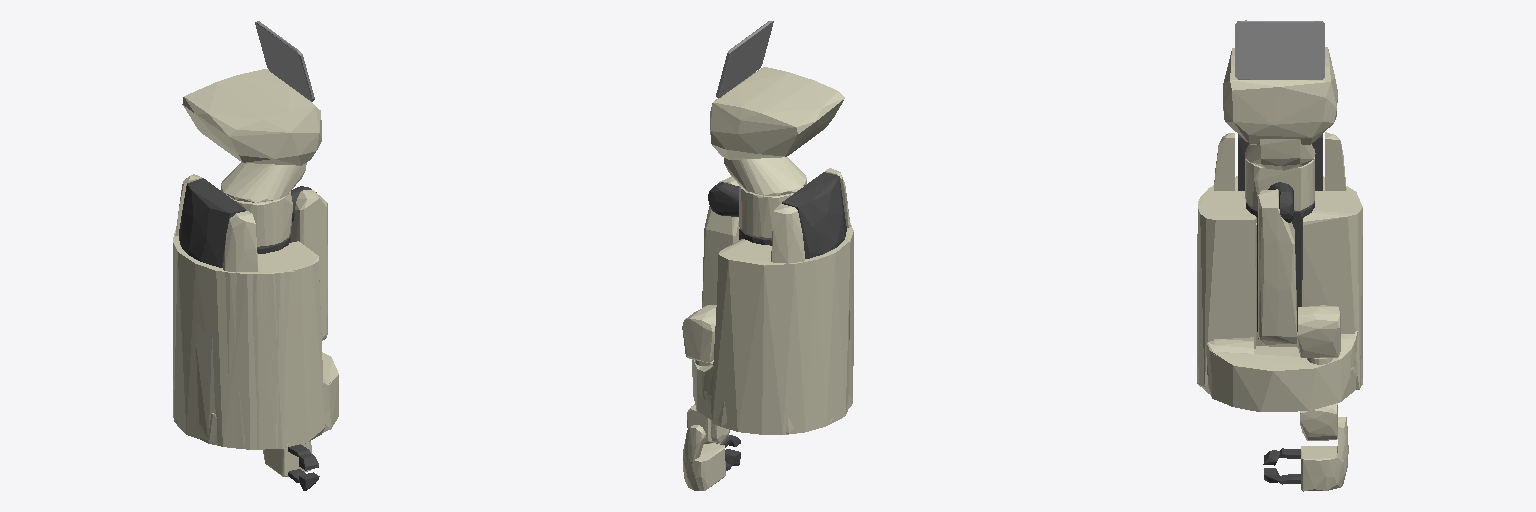
--- Render facts (derived) ---
3 views of the same robot in one strip: view 1: azimuth 30°, elevation 25°; view 2: azimuth 150°, elevation 25°; view 3: azimuth 270°, elevation 25° (orthographic).
Robot: hsra — 85 links, 84 joints (13 revolute, 3 prismatic, 68 fixed); root link robot_base; default pose: all joints at 0.
Links seen in each view (by area): view 1: BASE/SHAPE_BASE_VISUAL, CARM/HEAD/SHAPE_HEAD_VISUAL, CARM/SHAPE_LINEAR_VISUAL, CARM/SHAPE_SHOULDER_P_VISUAL, CARM/HEAD/SHAPE_NECK_Y_VISUAL, CARM/HEAD/SHAPE_TABLET_VISUAL, CARM/SHAPE_SHOULDER_Y_VISUAL, CARM/SHAPE_WRIST_P_VISUAL; view 2: BASE/SHAPE_BASE_VISUAL, CARM/HEAD/SHAPE_HEAD_VISUAL, CARM/SHAPE_LINEAR_VISUAL, CARM/HEAD/SHAPE_NECK_Y_VISUAL, CARM/SHAPE_WRIST_P_VISUAL, CARM/SHAPE_SHOULDER_P_VISUAL, CARM/HEAD/SHAPE_TABLET_VISUAL, CARM/SHAPE_SHOULDER_Y_VISUAL, CARM/SHAPE_ELBOW_P_VISUAL, CARM/SHAPE_SHOULDER_R_VISUAL; view 3: BASE/SHAPE_BASE_VISUAL, CARM/HEAD/SHAPE_HEAD_VISUAL, CARM/SHAPE_SHOULDER_P_VISUAL, CARM/HEAD/SHAPE_TABLET_VISUAL, CARM/SHAPE_WRIST_P_VISUAL, CARM/SHAPE_ELBOW_P_VISUAL, CARM/SHAPE_SHOULDER_Y_VISUAL, CARM/SHAPE_LINEAR_VISUAL, CARM/HEAD/SHAPE_NECK_Y_VISUAL, CARM/SHAPE_WRIST_R_VISUAL, CARM/SHAPE_SHOULDER_R_VISUAL.
Boxes of the visible links, <box> form: BASE/SHAPE_BASE_VISUAL: <box>173,174,338,449</box>; CARM/HEAD/SHAPE_HEAD_VISUAL: <box>182,69,321,165</box>; CARM/SHAPE_LINEAR_VISUAL: <box>179,178,290,267</box>; CARM/SHAPE_SHOULDER_P_VISUAL: <box>290,190,327,340</box>; CARM/HEAD/SHAPE_NECK_Y_VISUAL: <box>221,162,306,202</box>; CARM/HEAD/SHAPE_TABLET_VISUAL: <box>255,21,314,101</box>; CARM/SHAPE_SHOULDER_Y_VISUAL: <box>230,191,292,246</box>; CARM/SHAPE_WRIST_P_VISUAL: <box>263,441,311,476</box>; BASE/SHAPE_BASE_VISUAL: <box>692,168,853,434</box>; CARM/HEAD/SHAPE_HEAD_VISUAL: <box>710,67,844,159</box>; CARM/SHAPE_LINEAR_VISUAL: <box>739,172,846,258</box>; CARM/HEAD/SHAPE_NECK_Y_VISUAL: <box>724,157,806,195</box>; CARM/SHAPE_WRIST_P_VISUAL: <box>683,425,725,490</box>; CARM/SHAPE_SHOULDER_P_VISUAL: <box>702,176,739,307</box>; CARM/HEAD/SHAPE_TABLET_VISUAL: <box>716,21,773,97</box>; CARM/SHAPE_SHOULDER_Y_VISUAL: <box>739,184,806,237</box>; CARM/SHAPE_ELBOW_P_VISUAL: <box>682,305,716,362</box>; CARM/SHAPE_SHOULDER_R_VISUAL: <box>708,182,738,216</box>; BASE/SHAPE_BASE_VISUAL: <box>1197,132,1362,411</box>; CARM/HEAD/SHAPE_HEAD_VISUAL: <box>1223,47,1337,144</box>; CARM/SHAPE_SHOULDER_P_VISUAL: <box>1258,189,1296,345</box>; CARM/HEAD/SHAPE_TABLET_VISUAL: <box>1235,20,1324,79</box>; CARM/SHAPE_WRIST_P_VISUAL: <box>1301,417,1348,491</box>; CARM/SHAPE_ELBOW_P_VISUAL: <box>1297,305,1340,357</box>; CARM/SHAPE_SHOULDER_Y_VISUAL: <box>1245,157,1314,210</box>; CARM/SHAPE_LINEAR_VISUAL: <box>1238,134,1322,338</box>; CARM/HEAD/SHAPE_NECK_Y_VISUAL: <box>1245,139,1315,170</box>; CARM/SHAPE_WRIST_R_VISUAL: <box>1300,403,1337,440</box>; CARM/SHAPE_SHOULDER_R_VISUAL: <box>1268,182,1293,222</box>.
Size in the robot's own frame: 0.3737 by 0.3772 by 1.13 metres.
27 mesh visuals loaded from 27 distinct referenced files (27 binary STL).

robot.urdf — hsra:
<?xml version="1.0" encoding="utf-8"?>
<robot name="hsra">
    <link name="robot_base"/>
    <joint name="robot_base_vjoint_" type="fixed">
        <origin rpy="0 0 0" xyz="0 0 0"/>
        <parent link="robot_base"/>
        <child link="_root_"/>
    </joint>
    <link name="_root_"/>
    <joint name="BASE/_root__vjoint_" type="fixed">
        <origin rpy="0 0 0" xyz="0 0 0"/>
        <parent link="_root_"/>
        <child link="BASE/_root_"/>
    </joint>
    <link name="BASE/_root_"/>
    <joint name="BASE/_BASE_X" type="prismatic">
        <origin rpy="0 0 0" xyz=" 0.000  0.000  0.000"/>
        <parent link="BASE/_root_"/>
        <child link="BASE/_BASE_X_link"/>
        <axis xyz="1 0 0"/>
        <limit effort="1000.0" lower="-1.000" upper="1.000" velocity="10.0"/>
    </joint>
    <link name="BASE/_BASE_X_link"/>
    <joint name="BASE/SOLID_BASE_vjoint_" type="fixed">
        <origin rpy="0 0 0" xyz="0 0 0"/>
        <parent link="BASE/_root_"/>
        <child link="BASE/SOLID_BASE"/>
    </joint>
    <link name="BASE/SOLID_BASE">
        <inertial>
            <origin xyz="0.000  0.000  0.0625"/>
            <mass value="4.0"/>
            <inertia ixx="4.00" ixy="0.000" ixz="0.000" iyy="4.00" iyz="0.000" izz="4.000"/>
        </inertial>
    </link>
    <joint name="BASE/SOLID_WEIGHT_vjoint_" type="fixed">
        <origin rpy="0 0 0" xyz="0 0 0"/>
        <parent link="BASE/_root_"/>
        <child link="BASE/SOLID_WEIGHT"/>
    </joint>
    <link name="BASE/SOLID_WEIGHT">
        <inertial>
            <origin xyz="0.000  0.000  0.05"/>
            <mass value="5.0"/>
            <inertia ixx="5.00" ixy="0.000" ixz="0.000" iyy="5.00" iyz="0.000" izz="5.000"/>
        </inertial>
    </link>
    <joint name="BASE/FRAME_BASE_vjoint_" type="fixed">
        <origin rpy=" 0.000  0.0  0.000" xyz="0.000 0.000 0.000"/>
        <parent link="BASE/_BASE_X_link"/>
        <child link="BASE/FRAME_BASE"/>
    </joint>
    <link name="BASE/FRAME_BASE"/>
    <joint name="BASE/SHAPE_BASE_1_vjoint_" type="fixed">
        <origin rpy="0 0 0" xyz="  0.0 0.0 0.0"/>
        <parent link="BASE/FRAME_BASE"/>
        <child link="BASE/SHAPE_BASE_1"/>
    </joint>
    <link name="BASE/SHAPE_BASE_1">
        <visual>
            <geometry>
                <box size="0 0 0"/>
            </geometry>
            <material name="ffbbbb">
                <color rgba="1.0 0.733333333333 0.733333333333 1.0"/>
            </material>
        </visual>
        <collision>
            <geometry>
                <mesh filename="package://tmc_manipulation_tests/meshes/hsra/BASE_1.stl"/>
            </geometry>
        </collision>
    </link>
    <joint name="BASE/SHAPE_BASE_2_vjoint_" type="fixed">
        <origin rpy="0 0 0" xyz="  0.0 0.0 0.0"/>
        <parent link="BASE/FRAME_BASE"/>
        <child link="BASE/SHAPE_BASE_2"/>
    </joint>
    <link name="BASE/SHAPE_BASE_2">
        <visual>
            <geometry>
                <box size="0 0 0"/>
            </geometry>
            <material name="ffbbbb">
                <color rgba="1.0 0.733333333333 0.733333333333 1.0"/>
            </material>
        </visual>
        <collision>
            <geometry>
                <mesh filename="package://tmc_manipulation_tests/meshes/hsra/BASE_2.stl"/>
            </geometry>
        </collision>
    </link>
    <joint name="BASE/SHAPE_BASE_3_vjoint_" type="fixed">
        <origin rpy="0 0 0" xyz="  0.0 0.0 0.0"/>
        <parent link="BASE/FRAME_BASE"/>
        <child link="BASE/SHAPE_BASE_3"/>
    </joint>
    <link name="BASE/SHAPE_BASE_3">
        <visual>
            <geometry>
                <box size="0 0 0"/>
            </geometry>
            <material name="ffbbbb">
                <color rgba="1.0 0.733333333333 0.733333333333 1.0"/>
            </material>
        </visual>
        <collision>
            <geometry>
                <mesh filename="package://tmc_manipulation_tests/meshes/hsra/BASE_3.stl"/>
            </geometry>
        </collision>
    </link>
    <joint name="BASE/SHAPE_BASE_4_vjoint_" type="fixed">
        <origin rpy="0 0 0" xyz="  0.0 0.0 0.0"/>
        <parent link="BASE/FRAME_BASE"/>
        <child link="BASE/SHAPE_BASE_4"/>
    </joint>
    <link name="BASE/SHAPE_BASE_4">
        <visual>
            <geometry>
                <box size="0 0 0"/>
            </geometry>
            <material name="ffbbbb">
                <color rgba="1.0 0.733333333333 0.733333333333 1.0"/>
            </material>
        </visual>
        <collision>
            <geometry>
                <mesh filename="package://tmc_manipulation_tests/meshes/hsra/BASE_4.stl"/>
            </geometry>
        </collision>
    </link>
    <joint name="BASE/SHAPE_BASE_5_vjoint_" type="fixed">
        <origin rpy="0 0 0" xyz="  0.0 0.0 0.0"/>
        <parent link="BASE/FRAME_BASE"/>
        <child link="BASE/SHAPE_BASE_5"/>
    </joint>
    <link name="BASE/SHAPE_BASE_5">
        <visual>
            <geometry>
                <box size="0 0 0"/>
            </geometry>
            <material name="ffbbbb">
                <color rgba="1.0 0.733333333333 0.733333333333 1.0"/>
            </material>
        </visual>
        <collision>
            <geometry>
                <mesh filename="package://tmc_manipulation_tests/meshes/hsra/BASE_5.stl"/>
            </geometry>
        </collision>
    </link>
    <joint name="BASE/SHAPE_BASE_6_vjoint_" type="fixed">
        <origin rpy="0 0 0" xyz="  0.0 0.0 0.0"/>
        <parent link="BASE/FRAME_BASE"/>
        <child link="BASE/SHAPE_BASE_6"/>
    </joint>
    <link name="BASE/SHAPE_BASE_6">
        <visual>
            <geometry>
                <box size="0 0 0"/>
            </geometry>
            <material name="ffbbbb">
                <color rgba="1.0 0.733333333333 0.733333333333 1.0"/>
            </material>
        </visual>
        <collision>
            <geometry>
                <mesh filename="package://tmc_manipulation_tests/meshes/hsra/BASE_6.stl"/>
            </geometry>
        </collision>
    </link>
    <joint name="BASE/SHAPE_BASE_VISUAL_vjoint_" type="fixed">
        <origin rpy="0 0 0" xyz="0 0 0"/>
        <parent link="BASE/FRAME_BASE"/>
        <child link="BASE/SHAPE_BASE_VISUAL"/>
    </joint>
    <link name="BASE/SHAPE_BASE_VISUAL">
        <visual>
            <material name="d5d2bb">
                <color rgba="0.835294117647 0.823529411765 0.733333333333 1.0"/>
            </material>
            <geometry>
                <mesh filename="package://tmc_manipulation_tests/meshes/hsra/BASE_1.stl"/>
            </geometry>
        </visual>
        <visual>
            <material name="d5d2bb">
                <color rgba="0.835294117647 0.823529411765 0.733333333333 1.0"/>
            </material>
            <geometry>
                <mesh filename="package://tmc_manipulation_tests/meshes/hsra/BASE_2.stl"/>
            </geometry>
        </visual>
        <visual>
            <material name="d5d2bb">
                <color rgba="0.835294117647 0.823529411765 0.733333333333 1.0"/>
            </material>
            <geometry>
                <mesh filename="package://tmc_manipulation_tests/meshes/hsra/BASE_3.stl"/>
            </geometry>
        </visual>
        <visual>
            <material name="d5d2bb">
                <color rgba="0.835294117647 0.823529411765 0.733333333333 1.0"/>
            </material>
            <geometry>
                <mesh filename="package://tmc_manipulation_tests/meshes/hsra/BASE_4.stl"/>
            </geometry>
        </visual>
        <visual>
            <material name="d5d2bb">
                <color rgba="0.835294117647 0.823529411765 0.733333333333 1.0"/>
            </material>
            <geometry>
                <mesh filename="package://tmc_manipulation_tests/meshes/hsra/BASE_5.stl"/>
            </geometry>
        </visual>
        <visual>
            <material name="d5d2bb">
                <color rgba="0.835294117647 0.823529411765 0.733333333333 1.0"/>
            </material>
            <geometry>
                <mesh filename="package://tmc_manipulation_tests/meshes/hsra/BASE_6.stl"/>
            </geometry>
        </visual>
    </link>
    <joint name="CARM/_root__vjoint_" type="fixed">
        <origin rpy="0 0 0" xyz=" 0.000  0.000  0.506"/>
        <parent link="BASE/FRAME_BASE"/>
        <child link="CARM/_root_"/>
    </joint>
    <link name="CARM/_root_"/>
    <joint name="CARM/HAND/_root__vjoint_" type="fixed">
        <origin rpy="1.57079632679 -0.0 0.0" xyz=" 0.000 -0.040 -0.100"/>
        <parent link="CARM/WRIST_P_link"/>
        <child link="CARM/HAND/_root_"/>
    </joint>
    <link name="CARM/HAND/_root_"/>
    <joint name="CARM/HAND/JOINT_11" type="revolute">
        <origin rpy="0 0 0" xyz="0.0185 -0.030 -0.016"/>
        <parent link="CARM/HAND/_root_"/>
        <child link="CARM/HAND/JOINT_11_link"/>
        <axis xyz="1.0 0.0 0.0"/>
        <limit effort="1000.0" lower="-0.2372" upper="1.221" velocity="628.318530718"/>
    </joint>
    <link name="CARM/HAND/JOINT_11_link"/>
    <joint name="CARM/HAND/JOINT_12" type="revolute">
        <origin rpy="0 0 0" xyz="0.0 0.0 0.07"/>
        <parent link="CARM/HAND/JOINT_11_link"/>
        <child link="CARM/HAND/JOINT_12_link"/>
        <axis xyz="1.0 0.0 0.0"/>
        <limit effort="1000.0" lower="-1.221" upper="0.2372" velocity="628.318530718"/>
    </joint>
    <link name="CARM/HAND/JOINT_12_link"/>
    <joint name="CARM/HAND/JOINT_21" type="revolute">
        <origin rpy="0 0 0" xyz="0.0185 0.030 -0.016"/>
        <parent link="CARM/HAND/_root_"/>
        <child link="CARM/HAND/JOINT_21_link"/>
        <axis xyz="-1.0 0.0 0.0"/>
        <limit effort="1000.0" lower="-0.2372" upper="1.221" velocity="628.318530718"/>
    </joint>
    <link name="CARM/HAND/JOINT_21_link"/>
    <joint name="CARM/HAND/JOINT_22" type="revolute">
        <origin rpy="0 0 0" xyz="0.0 0.0 0.07"/>
        <parent link="CARM/HAND/JOINT_21_link"/>
        <child link="CARM/HAND/JOINT_22_link"/>
        <axis xyz="-1.0 0.0 0.0"/>
        <limit effort="1000.0" lower="-1.221" upper="0.2372" velocity="628.318530718"/>
    </joint>
    <link name="CARM/HAND/JOINT_22_link"/>
    <joint name="CARM/HAND/FRAME_VACUUM_vjoint_" type="fixed">
        <origin rpy="0.977384381756 -0.0 0.0" xyz="-0.0326 -0.010095 0.0277"/>
        <parent link="CARM/HAND/JOINT_12_link"/>
        <child link="CARM/HAND/FRAME_VACUUM"/>
    </joint>
    <link name="CARM/HAND/FRAME_VACUUM"/>
    <joint name="CARM/HAND/FRAME_FTIP1_vjoint_" type="fixed">
        <origin rpy="-1.57079632679 -0.0 0.0" xyz="-0.0196 0.019835 0.034085"/>
        <parent link="CARM/HAND/JOINT_12_link"/>
        <child link="CARM/HAND/FRAME_FTIP1"/>
    </joint>
    <link name="CARM/HAND/FRAME_FTIP1"/>
    <joint name="CARM/HAND/FRAME_FTIP2_vjoint_" type="fixed">
        <origin rpy="1.57079632679 -0.0 0.0" xyz="-0.0196 -0.019835 0.034085"/>
        <parent link="CARM/HAND/JOINT_22_link"/>
        <child link="CARM/HAND/FRAME_FTIP2"/>
    </joint>
    <link name="CARM/HAND/FRAME_FTIP2"/>
    <joint name="CARM/HAND/SHAPE_11_vjoint_" type="fixed">
        <origin rpy="0 0 0" xyz="-0.0345 0 0"/>
        <parent link="CARM/HAND/JOINT_11_link"/>
        <child link="CARM/HAND/SHAPE_11"/>
    </joint>
    <link name="CARM/HAND/SHAPE_11">
        <visual>
            <geometry>
                <box size="0 0 0"/>
            </geometry>
            <material name="ffffff">
                <color rgba="1.0 1.0 1.0 1.0"/>
            </material>
        </visual>
        <collision>
            <geometry>
                <mesh filename="package://tmc_manipulation_tests/meshes/hsra/finger_11.stl"/>
            </geometry>
        </collision>
    </link>
    <joint name="CARM/HAND/SHAPE_12_vjoint_" type="fixed">
        <origin rpy="0.0 -0.0 1.57079632679" xyz="-0.0375 0.023 0.011"/>
        <parent link="CARM/HAND/JOINT_12_link"/>
        <child link="CARM/HAND/SHAPE_12"/>
    </joint>
    <link name="CARM/HAND/SHAPE_12">
        <visual>
            <geometry>
                <box size="0 0 0"/>
            </geometry>
            <material name="ffffff">
                <color rgba="1.0 1.0 1.0 1.0"/>
            </material>
        </visual>
        <collision>
            <geometry>
                <mesh filename="package://tmc_manipulation_tests/meshes/hsra/finger_12.stl"/>
            </geometry>
        </collision>
    </link>
    <joint name="CARM/HAND/SHAPE_21_vjoint_" type="fixed">
        <origin rpy="0.0 -0.0 1.57079632679" xyz="-0.0025 0 0"/>
        <parent link="CARM/HAND/JOINT_21_link"/>
        <child link="CARM/HAND/SHAPE_21"/>
    </joint>
    <link name="CARM/HAND/SHAPE_21">
        <visual>
            <geometry>
                <box size="0 0 0"/>
            </geometry>
            <material name="ffffff">
                <color rgba="1.0 1.0 1.0 1.0"/>
            </material>
        </visual>
        <collision>
            <geometry>
                <mesh filename="package://tmc_manipulation_tests/meshes/hsra/finger_21.stl"/>
            </geometry>
        </collision>
    </link>
    <joint name="CARM/HAND/SHAPE_22_vjoint_" type="fixed">
        <origin rpy="0.0 -0.0 -1.57079632679" xyz="-0.018 -0.011 0.011"/>
        <parent link="CARM/HAND/JOINT_22_link"/>
        <child link="CARM/HAND/SHAPE_22"/>
    </joint>
    <link name="CARM/HAND/SHAPE_22">
        <visual>
            <geometry>
                <box size="0 0 0"/>
            </geometry>
            <material name="ffffff">
                <color rgba="1.0 1.0 1.0 1.0"/>
            </material>
        </visual>
        <collision>
            <geometry>
                <mesh filename="package://tmc_manipulation_tests/meshes/hsra/finger_22.stl"/>
            </geometry>
        </collision>
    </link>
    <joint name="CARM/HAND/SHAPE_11_VISUAL_vjoint_" type="fixed">
        <origin rpy="0 0 0" xyz="-0.0345 0 0"/>
        <parent link="CARM/HAND/JOINT_11_link"/>
        <child link="CARM/HAND/SHAPE_11_VISUAL"/>
    </joint>
    <link name="CARM/HAND/SHAPE_11_VISUAL">
        <visual>
            <material name="555555">
                <color rgba="0.333333333333 0.333333333333 0.333333333333 1.0"/>
            </material>
            <geometry>
                <mesh filename="package://tmc_manipulation_tests/meshes/hsra/finger_11.stl"/>
            </geometry>
        </visual>
    </link>
    <joint name="CARM/HAND/SHAPE_12_VISUAL_vjoint_" type="fixed">
        <origin rpy="0.0 -0.0 1.57079632679" xyz="-0.0375 0.023 0.011"/>
        <parent link="CARM/HAND/JOINT_12_link"/>
        <child link="CARM/HAND/SHAPE_12_VISUAL"/>
    </joint>
    <link name="CARM/HAND/SHAPE_12_VISUAL">
        <visual>
            <material name="555555">
                <color rgba="0.333333333333 0.333333333333 0.333333333333 1.0"/>
            </material>
            <geometry>
                <mesh filename="package://tmc_manipulation_tests/meshes/hsra/finger_12.stl"/>
            </geometry>
        </visual>
    </link>
    <joint name="CARM/HAND/SHAPE_21_VISUAL_vjoint_" type="fixed">
        <origin rpy="0.0 -0.0 1.57079632679" xyz="-0.0025 0 0"/>
        <parent link="CARM/HAND/JOINT_21_link"/>
        <child link="CARM/HAND/SHAPE_21_VISUAL"/>
    </joint>
    <link name="CARM/HAND/SHAPE_21_VISUAL">
        <visual>
            <material name="555555">
                <color rgba="0.333333333333 0.333333333333 0.333333333333 1.0"/>
            </material>
            <geometry>
                <mesh filename="package://tmc_manipulation_tests/meshes/hsra/finger_21.stl"/>
            </geometry>
        </visual>
    </link>
    <joint name="CARM/HAND/SHAPE_22_VISUAL_vjoint_" type="fixed">
        <origin rpy="0.0 -0.0 -1.57079632679" xyz="-0.018 -0.011 0.011"/>
        <parent link="CARM/HAND/JOINT_22_link"/>
        <child link="CARM/HAND/SHAPE_22_VISUAL"/>
    </joint>
    <link name="CARM/HAND/SHAPE_22_VISUAL">
        <visual>
            <material name="555555">
                <color rgba="0.333333333333 0.333333333333 0.333333333333 1.0"/>
            </material>
            <geometry>
                <mesh filename="package://tmc_manipulation_tests/meshes/hsra/finger_22.stl"/>
            </geometry>
        </visual>
    </link>
    <joint name="CARM/HEAD/_root__vjoint_" type="fixed">
        <origin rpy="0 0 0" xyz=" 0.000  0.000  0.000"/>
        <parent link="CARM/SHOULDER_Y_link"/>
        <child link="CARM/HEAD/_root_"/>
    </joint>
    <link name="CARM/HEAD/_root_"/>
    <joint name="CARM/HEAD/NECK_Y" type="revolute">
        <origin rpy="0 0 0" xyz="0.0 0.0 0.1575"/>
        <parent link="CARM/HEAD/_root_"/>
        <child link="CARM/HEAD/NECK_Y_link"/>
        <axis xyz="0 0 1"/>
        <limit effort="1000.0" lower="-3.73500" upper="2.16421" velocity="10.8"/>
    </joint>
    <link name="CARM/HEAD/NECK_Y_link"/>
    <joint name="CARM/HEAD/NECK_P" type="revolute">
        <origin rpy="0 0 0" xyz="0.08 0.0 0.0"/>
        <parent link="CARM/HEAD/NECK_Y_link"/>
        <child link="CARM/HEAD/NECK_P_link"/>
        <axis xyz="0 -1 0"/>
        <limit effort="1000.0" lower="-1.5533" upper="0.50614" velocity="10.0"/>
    </joint>
    <link name="CARM/HEAD/NECK_P_link"/>
    <joint name="CARM/HEAD/FRAME_GAZE_vjoint_" type="fixed">
        <origin rpy="0.0 -1.57079632679 1.57079632679" xyz="0.000 0.066 0.069"/>
        <parent link="CARM/HEAD/NECK_P_link"/>
        <child link="CARM/HEAD/FRAME_GAZE"/>
    </joint>
    <link name="CARM/HEAD/FRAME_GAZE"/>
    <joint name="CARM/HEAD/SHAPE_NECK_vjoint_" type="fixed">
        <origin rpy="0 0 0" xyz="0.0 0.0 0.0"/>
        <parent link="CARM/HEAD/NECK_Y_link"/>
        <child link="CARM/HEAD/SHAPE_NECK"/>
    </joint>
    <link name="CARM/HEAD/SHAPE_NECK">
        <visual>
            <geometry>
                <box size="0 0 0"/>
            </geometry>
            <material name="6666ff">
                <color rgba="0.4 0.4 1.0 1.0"/>
            </material>
        </visual>
        <collision>
            <geometry>
                <mesh filename="package://tmc_manipulation_tests/meshes/hsra/NECK_Y.stl"/>
            </geometry>
        </collision>
    </link>
    <joint name="CARM/HEAD/SHAPE_HEAD_vjoint_" type="fixed">
        <origin rpy="0 0 0" xyz="0.0 0.0 0.0"/>
        <parent link="CARM/HEAD/NECK_P_link"/>
        <child link="CARM/HEAD/SHAPE_HEAD"/>
    </joint>
    <link name="CARM/HEAD/SHAPE_HEAD">
        <visual>
            <geometry>
                <box size="0 0 0"/>
            </geometry>
            <material name="ff66ff">
                <color rgba="1.0 0.4 1.0 1.0"/>
            </material>
        </visual>
        <collision>
            <geometry>
                <mesh filename="package://tmc_manipulation_tests/meshes/hsra/HEAD_COVER.stl"/>
            </geometry>
        </collision>
    </link>
    <joint name="CARM/HEAD/SHAPE_TABLET_vjoint_" type="fixed">
        <origin rpy="0 0 0" xyz="0.0 0.0 0.0"/>
        <parent link="CARM/HEAD/NECK_P_link"/>
        <child link="CARM/HEAD/SHAPE_TABLET"/>
    </joint>
    <link name="CARM/HEAD/SHAPE_TABLET">
        <visual>
            <geometry>
                <box size="0 0 0"/>
            </geometry>
            <material name="999933">
                <color rgba="0.6 0.6 0.2 1.0"/>
            </material>
        </visual>
        <collision>
            <geometry>
                <mesh filename="package://tmc_manipulation_tests/meshes/hsra/TABLET.stl"/>
            </geometry>
        </collision>
    </link>
    <joint name="CARM/HEAD/SHAPE_NECK_Y_VISUAL_vjoint_" type="fixed">
        <origin rpy="0 0 0" xyz="0.0 0.0 0.0"/>
        <parent link="CARM/HEAD/NECK_Y_link"/>
        <child link="CARM/HEAD/SHAPE_NECK_Y_VISUAL"/>
    </joint>
    <link name="CARM/HEAD/SHAPE_NECK_Y_VISUAL">
        <visual>
            <material name="d5d2bb">
                <color rgba="0.835294117647 0.823529411765 0.733333333333 1.0"/>
            </material>
            <geometry>
                <mesh filename="package://tmc_manipulation_tests/meshes/hsra/NECK_Y.stl"/>
            </geometry>
        </visual>
    </link>
    <joint name="CARM/HEAD/SHAPE_HEAD_VISUAL_vjoint_" type="fixed">
        <origin rpy="0 0 0" xyz="0.0 0.0 0.0"/>
        <parent link="CARM/HEAD/NECK_P_link"/>
        <child link="CARM/HEAD/SHAPE_HEAD_VISUAL"/>
    </joint>
    <link name="CARM/HEAD/SHAPE_HEAD_VISUAL">
        <visual>
            <material name="d5d2bb">
                <color rgba="0.835294117647 0.823529411765 0.733333333333 1.0"/>
            </material>
            <geometry>
                <mesh filename="package://tmc_manipulation_tests/meshes/hsra/HEAD_COVER.stl"/>
            </geometry>
        </visual>
    </link>
    <joint name="CARM/HEAD/SHAPE_TABLET_VISUAL_vjoint_" type="fixed">
        <origin rpy="0 0 0" xyz="0.0 0.0 0.0"/>
        <parent link="CARM/HEAD/NECK_P_link"/>
        <child link="CARM/HEAD/SHAPE_TABLET_VISUAL"/>
    </joint>
    <link name="CARM/HEAD/SHAPE_TABLET_VISUAL">
        <visual>
            <material name="999999">
                <color rgba="0.6 0.6 0.6 1.0"/>
            </material>
            <geometry>
                <mesh filename="package://tmc_manipulation_tests/meshes/hsra/TABLET.stl"/>
            </geometry>
        </visual>
    </link>
    <joint name="CARM/LINEAR" type="prismatic">
        <origin rpy="0 0 0" xyz=" 0.000  0.000  0.000"/>
        <parent link="CARM/_root_"/>
        <child link="CARM/LINEAR_link"/>
        <axis xyz="0  0  1"/>
        <limit effort="1000.0" lower="0.000" upper="0.490" velocity="10.0"/>
    </joint>
    <link name="CARM/LINEAR_link"/>
    <joint name="CARM/LINEAR_PASSIVE" type="prismatic">
        <origin rpy="0 0 0" xyz=" 0.000  0.000  0.000"/>
        <parent link="CARM/_root_"/>
        <child link="CARM/LINEAR_PASSIVE_link"/>
        <axis xyz="0  0  1"/>
        <limit effort="1000.0" lower="0.000" upper="0.250" velocity="10.0"/>
    </joint>
    <link name="CARM/LINEAR_PASSIVE_link"/>
    <joint name="CARM/SHOULDER_Y" type="revolute">
        <origin rpy="0 0 0" xyz="0.000  0.000  0.000"/>
        <parent link="CARM/LINEAR_link"/>
        <child link="CARM/SHOULDER_Y_link"/>
        <axis xyz="0  0 -1"/>
        <limit effort="1000.0" lower="-1.640609497" upper="1.640609497" velocity="10.0"/>
    </joint>
    <link name="CARM/SHOULDER_Y_link"/>
    <joint name="CARM/SHOULDER_R" type="revolute">
        <origin rpy="0 0 0" xyz=" 0.125  0.000 0.00"/>
        <parent link="CARM/SHOULDER_Y_link"/>
        <child link="CARM/SHOULDER_R_link"/>
        <axis xyz="1  0  0"/>
        <limit effort="1000.0" lower="-2.793" upper="2.793" velocity="10.0"/>
    </joint>
    <link name="CARM/SHOULDER_R_link"/>
    <joint name="CARM/SHOULDER_P" type="revolute">
        <origin rpy="0 0 0" xyz="0 0 0"/>
        <parent link="CARM/SHOULDER_R_link"/>
        <child link="CARM/SHOULDER_P_link"/>
        <axis xyz="0 -1  0"/>
        <limit effort="1000.0" lower="0.000" upper="3.1416" velocity="10.0"/>
    </joint>
    <link name="CARM/SHOULDER_P_link"/>
    <joint name="CARM/ELBOW_P" type="revolute">
        <origin rpy="0 0 0" xyz=" 0.000  0.000 -0.300"/>
        <parent link="CARM/SHOULDER_P_link"/>
        <child link="CARM/ELBOW_P_link"/>
        <axis xyz="0 -1  0"/>
        <limit effort="1000.0" lower="-2.793" upper="3.1416" velocity="10.0"/>
    </joint>
    <link name="CARM/ELBOW_P_link"/>
    <joint name="CARM/WRIST_Y" type="revolute">
        <origin rpy="0 0 0" xyz=" 0.000 0.090 -0.250"/>
        <parent link="CARM/ELBOW_P_link"/>
        <child link="CARM/WRIST_Y_link"/>
        <axis xyz="0  0 -1"/>
        <limit effort="1000.0" lower="-1.9198" upper="3.6652" velocity="10.0"/>
    </joint>
    <link name="CARM/WRIST_Y_link"/>
    <joint name="CARM/WRIST_R" type="revolute">
        <origin rpy="0 0 0" xyz="0 0 0"/>
        <parent link="CARM/WRIST_Y_link"/>
        <child link="CARM/WRIST_R_link"/>
        <axis xyz="1  0  0"/>
        <limit effort="1000.0" lower="-1.571" upper="1.571" velocity="10.0"/>
    </joint>
    <link name="CARM/WRIST_R_link"/>
    <joint name="CARM/WRIST_P" type="revolute">
        <origin rpy="0 0 0" xyz="0 0 0"/>
        <parent link="CARM/WRIST_R_link"/>
        <child link="CARM/WRIST_P_link"/>
        <axis xyz="0 -1  0"/>
        <limit effort="1000.0" lower="-1.571" upper="1.571" velocity="10.0"/>
    </joint>
    <link name="CARM/WRIST_P_link"/>
    <joint name="CARM/SOLID_0_0_vjoint_" type="fixed">
        <origin rpy="0 0 0" xyz=" -0.033  0.000 -0.158"/>
        <parent link="CARM/LINEAR_link"/>
        <child link="CARM/SOLID_0_0"/>
    </joint>
    <link name="CARM/SOLID_0_0">
        <inertial>
            <origin xyz="0 0 0"/>
            <mass value="5.8"/>
            <inertia ixx="0.0" ixy="0.0" ixz="0.0" iyy="0.0" iyz="0.0" izz="0.0"/>
        </inertial>
    </link>
    <joint name="CARM/SOLID_0_vjoint_" type="fixed">
        <origin rpy="0 0 0" xyz="-0.009  0.000 -0.044184"/>
        <parent link="CARM/LINEAR_link"/>
        <child link="CARM/SOLID_0"/>
    </joint>
    <link name="CARM/SOLID_0">
        <inertial>
            <origin xyz="0 0 0"/>
            <mass value="0.315"/>
            <inertia ixx="1.68E-04" ixy="-4.40E-07" ixz="-1.55E-05" iyy="3.93E-04" iyz="-4.63E-10" izz="5.00E-04"/>
        </inertial>
    </link>
    <joint name="CARM/SOLID_1_vjoint_" type="fixed">
        <origin rpy="0 0 0" xyz="-0.010931 -0.012830  0.016782"/>
        <parent link="CARM/SHOULDER_Y_link"/>
        <child link="CARM/SOLID_1"/>
    </joint>
    <link name="CARM/SOLID_1">
        <inertial>
            <origin xyz="0 0 0"/>
            <mass value="0.860"/>
            <inertia ixx="1.47E-03" ixy="2.27E-04" ixz="-8.01E-05" iyy="1.96E-03" iyz="1.77E-04" izz="2.18E-03"/>
        </inertial>
    </link>
    <joint name="CARM/SOLID_2_vjoint_" type="fixed">
        <origin rpy="0 0 0" xyz="-0.029286 -0.003561  0.000"/>
        <parent link="CARM/SHOULDER_R_link"/>
        <child link="CARM/SOLID_2"/>
    </joint>
    <link name="CARM/SOLID_2">
        <inertial>
            <origin xyz="0 0 0"/>
            <mass value="0.254"/>
            <inertia ixx="1.47E-04" ixy="3.65E-05" ixz="7.30E-07" iyy="4.03E-04" iyz="-5.75E-09" izz="4.05E-04"/>
        </inertial>
    </link>
    <joint name="CARM/SOLID_3_vjoint_" type="fixed">
        <origin rpy="0 0 0" xyz="-0.0009 -0.00814 -0.15463"/>
        <parent link="CARM/SHOULDER_P_link"/>
        <child link="CARM/SOLID_3"/>
    </joint>
    <link name="CARM/SOLID_3">
        <inertial>
            <origin xyz="0 0 0"/>
            <mass value="1.079"/>
            <inertia ixx="8.99E-03" ixy="-6.42E-08" ixz="1.25E-05" iyy="8.84E-03" iyz="4.78E-04" izz="9.42E-04"/>
        </inertial>
    </link>
    <joint name="CARM/SOLID_4_vjoint_" type="fixed">
        <origin rpy="0 0 0" xyz="-0.000 -0.00152 -0.01031"/>
        <parent link="CARM/ELBOW_P_link"/>
        <child link="CARM/SOLID_4"/>
    </joint>
    <link name="CARM/SOLID_4">
        <inertial>
            <origin xyz="0 0 0"/>
            <mass value="0.497"/>
            <inertia ixx="1.13E-03" ixy="9.76E-07" ixz="5.31E-07" iyy="5.09E-04" iyz="5.24E-05" izz="8.25E-04"/>
        </inertial>
    </link>
    <joint name="CARM/SOLID_5_vjoint_" type="fixed">
        <origin rpy="0 0 0" xyz="-0.018  0.000  0.123"/>
        <parent link="CARM/WRIST_Y_link"/>
        <child link="CARM/SOLID_5"/>
    </joint>
    <link name="CARM/SOLID_5">
        <inertial>
            <origin xyz="0 0 0"/>
            <mass value="0.538"/>
            <inertia ixx="1.86E-03" ixy="2.17E-07" ixz="-2.88E-04" iyy="1.96E-03" iyz="-5.56E-07" izz="3.00E-04"/>
        </inertial>
    </link>
    <joint name="CARM/SOLID_6_vjoint_" type="fixed">
        <origin rpy="0 0 0" xyz="-0.0015 0.00288 0.02767"/>
        <parent link="CARM/WRIST_R_link"/>
        <child link="CARM/SOLID_6"/>
    </joint>
    <link name="CARM/SOLID_6">
        <inertial>
            <origin xyz="0 0 0"/>
            <mass value="0.382"/>
            <inertia ixx="3.45E-04" ixy="-1.15E-06" ixz="-4.13E-05" iyy="2.81E-04" iyz="3.38E-05" izz="2.70E-04"/>
        </inertial>
    </link>
    <joint name="CARM/SOLID_7_vjoint_" type="fixed">
        <origin rpy="0 0 0" xyz=" 0.003577 -0.0083 -0.08834"/>
        <parent link="CARM/WRIST_P_link"/>
        <child link="CARM/SOLID_7"/>
    </joint>
    <link name="CARM/SOLID_7">
        <inertial>
            <origin xyz="0 0 0"/>
            <mass value="0.643"/>
            <inertia ixx="2.41E-03" ixy="7.38E-07" ixz="6.14E-07" iyy="1.10E-03" iyz="-3.52E-05" izz="1.69E-03"/>
        </inertial>
    </link>
    <joint name="CARM/FRAME_FORCE_SENSOR_vjoint_" type="fixed">
        <origin rpy="0.0 -1.57079632679 1.57079632679" xyz="0.000 0.027 -0.100"/>
        <parent link="CARM/WRIST_P_link"/>
        <child link="CARM/FRAME_FORCE_SENSOR"/>
    </joint>
    <link name="CARM/FRAME_FORCE_SENSOR"/>
    <joint name="CARM/FRAME_1_vjoint_" type="fixed">
        <origin rpy="1.57079632679 -0.0 0.0" xyz="0.000 -0.040 -0.100"/>
        <parent link="CARM/WRIST_P_link"/>
        <child link="CARM/FRAME_1"/>
    </joint>
    <link name="CARM/FRAME_1"/>
    <joint name="CARM/BASE_HAND_vjoint_" type="fixed">
        <origin rpy="1.57079632679 -0.0 0.0" xyz="0.000 -0.040 -0.100"/>
        <parent link="CARM/WRIST_P_link"/>
        <child link="CARM/BASE_HAND"/>
    </joint>
    <link name="CARM/BASE_HAND"/>
    <joint name="CARM/FRAME_2_vjoint_" type="fixed">
        <origin rpy=" 0.000  0.000  0.000" xyz="0.000  0.000  0.000"/>
        <parent link="CARM/LINEAR_link"/>
        <child link="CARM/FRAME_2"/>
    </joint>
    <link name="CARM/FRAME_2"/>
    <joint name="CARM/SHAPE_LINEAR_1_vjoint_" type="fixed">
        <origin rpy="0 0 0" xyz=" 0.0 0.0 -0.506"/>
        <parent link="CARM/LINEAR_link"/>
        <child link="CARM/SHAPE_LINEAR_1"/>
    </joint>
    <link name="CARM/SHAPE_LINEAR_1">
        <visual>
            <geometry>
                <box size="0 0 0"/>
            </geometry>
            <material name="00ff00">
                <color rgba="0.0 1.0 0.0 1.0"/>
            </material>
        </visual>
        <collision>
            <geometry>
                <mesh filename="package://tmc_manipulation_tests/meshes/hsra/LINEAR_1.stl"/>
            </geometry>
        </collision>
    </link>
    <joint name="CARM/SHAPE_LINEAR_2_vjoint_" type="fixed">
        <origin rpy="0 0 0" xyz=" 0.0 0.0 -0.506"/>
        <parent link="CARM/LINEAR_link"/>
        <child link="CARM/SHAPE_LINEAR_2"/>
    </joint>
    <link name="CARM/SHAPE_LINEAR_2">
        <visual>
            <geometry>
                <box size="0 0 0"/>
            </geometry>
            <material name="00ff00">
                <color rgba="0.0 1.0 0.0 1.0"/>
            </material>
        </visual>
        <collision>
            <geometry>
                <mesh filename="package://tmc_manipulation_tests/meshes/hsra/LINEAR_2.stl"/>
            </geometry>
        </collision>
    </link>
    <joint name="CARM/SHAPE_LINEAR_3_vjoint_" type="fixed">
        <origin rpy="0 0 0" xyz=" 0.0 0.0 -0.506"/>
        <parent link="CARM/LINEAR_link"/>
        <child link="CARM/SHAPE_LINEAR_3"/>
    </joint>
    <link name="CARM/SHAPE_LINEAR_3">
        <visual>
            <geometry>
                <box size="0 0 0"/>
            </geometry>
            <material name="00ff00">
                <color rgba="0.0 1.0 0.0 1.0"/>
            </material>
        </visual>
        <collision>
            <geometry>
                <mesh filename="package://tmc_manipulation_tests/meshes/hsra/LINEAR_3.stl"/>
            </geometry>
        </collision>
    </link>
    <joint name="CARM/SHAPE_LINEAR_VISUAL_vjoint_" type="fixed">
        <origin rpy="0 0 0" xyz="0 0 -0.506"/>
        <parent link="CARM/LINEAR_link"/>
        <child link="CARM/SHAPE_LINEAR_VISUAL"/>
    </joint>
    <link name="CARM/SHAPE_LINEAR_VISUAL">
        <visual>
            <material name="555555">
                <color rgba="0.333333333333 0.333333333333 0.333333333333 1.0"/>
            </material>
            <geometry>
                <mesh filename="package://tmc_manipulation_tests/meshes/hsra/LINEAR_1.stl"/>
            </geometry>
        </visual>
        <visual>
            <material name="555555">
                <color rgba="0.333333333333 0.333333333333 0.333333333333 1.0"/>
            </material>
            <geometry>
                <mesh filename="package://tmc_manipulation_tests/meshes/hsra/LINEAR_2.stl"/>
            </geometry>
        </visual>
        <visual>
            <material name="555555">
                <color rgba="0.333333333333 0.333333333333 0.333333333333 1.0"/>
            </material>
            <geometry>
                <mesh filename="package://tmc_manipulation_tests/meshes/hsra/LINEAR_3.stl"/>
            </geometry>
        </visual>
    </link>
    <joint name="CARM/SHAPE_SHOULDER_Y_vjoint_" type="fixed">
        <origin rpy="0 0 0" xyz=" 0.0 0.0 0.0"/>
        <parent link="CARM/SHOULDER_Y_link"/>
        <child link="CARM/SHAPE_SHOULDER_Y"/>
    </joint>
    <link name="CARM/SHAPE_SHOULDER_Y">
        <visual>
            <geometry>
                <box size="0 0 0"/>
            </geometry>
            <material name="ffff00">
                <color rgba="1.0 1.0 0.0 1.0"/>
            </material>
        </visual>
        <collision>
            <geometry>
                <mesh filename="package://tmc_manipulation_tests/meshes/hsra/SHOULDER_Y.stl"/>
            </geometry>
        </collision>
    </link>
    <joint name="CARM/SHAPE_SHOULDER_Y_VISUAL_vjoint_" type="fixed">
        <origin rpy="0 0 0" xyz="0 0 0"/>
        <parent link="CARM/SHOULDER_Y_link"/>
        <child link="CARM/SHAPE_SHOULDER_Y_VISUAL"/>
    </joint>
    <link name="CARM/SHAPE_SHOULDER_Y_VISUAL">
        <visual>
            <material name="d5d2bb">
                <color rgba="0.835294117647 0.823529411765 0.733333333333 1.0"/>
            </material>
            <geometry>
                <mesh filename="package://tmc_manipulation_tests/meshes/hsra/SHOULDER_Y.stl"/>
            </geometry>
        </visual>
    </link>
    <joint name="CARM/SHAPE_SHOULDER_R_vjoint_" type="fixed">
        <origin rpy="0 0 0" xyz="0.0  0.0  0.0"/>
        <parent link="CARM/SHOULDER_R_link"/>
        <child link="CARM/SHAPE_SHOULDER_R"/>
    </joint>
    <link name="CARM/SHAPE_SHOULDER_R">
        <visual>
            <geometry>
                <box size="0 0 0"/>
            </geometry>
            <material name="00ffff">
                <color rgba="0.0 1.0 1.0 1.0"/>
            </material>
        </visual>
        <collision>
            <geometry>
                <mesh filename="package://tmc_manipulation_tests/meshes/hsra/SHOULDER_R.stl"/>
            </geometry>
        </collision>
    </link>
    <joint name="CARM/SHAPE_SHOULDER_R_VISUAL_vjoint_" type="fixed">
        <origin rpy="0 0 0" xyz="0 0 0"/>
        <parent link="CARM/SHOULDER_R_link"/>
        <child link="CARM/SHAPE_SHOULDER_R_VISUAL"/>
    </joint>
    <link name="CARM/SHAPE_SHOULDER_R_VISUAL">
        <visual>
            <material name="555555">
                <color rgba="0.333333333333 0.333333333333 0.333333333333 1.0"/>
            </material>
            <geometry>
                <mesh filename="package://tmc_manipulation_tests/meshes/hsra/SHOULDER_R.stl"/>
            </geometry>
        </visual>
    </link>
    <joint name="CARM/SHAPE_SHOULDER_P_vjoint_" type="fixed">
        <origin rpy="0 0 0" xyz="0.0 0.0 0.0"/>
        <parent link="CARM/SHOULDER_P_link"/>
        <child link="CARM/SHAPE_SHOULDER_P"/>
    </joint>
    <link name="CARM/SHAPE_SHOULDER_P">
        <visual>
            <geometry>
                <box size="0 0 0"/>
            </geometry>
            <material name="ff4444">
                <color rgba="1.0 0.266666666667 0.266666666667 1.0"/>
            </material>
        </visual>
        <collision>
            <geometry>
                <mesh filename="package://tmc_manipulation_tests/meshes/hsra/SHOULDER_P.stl"/>
            </geometry>
        </collision>
    </link>
    <joint name="CARM/SHAPE_SHOULDER_P_VISUAL_vjoint_" type="fixed">
        <origin rpy="0 0 0" xyz="0 0 0"/>
        <parent link="CARM/SHOULDER_P_link"/>
        <child link="CARM/SHAPE_SHOULDER_P_VISUAL"/>
    </joint>
    <link name="CARM/SHAPE_SHOULDER_P_VISUAL">
        <visual>
            <material name="d5d2bb">
                <color rgba="0.835294117647 0.823529411765 0.733333333333 1.0"/>
            </material>
            <geometry>
                <mesh filename="package://tmc_manipulation_tests/meshes/hsra/SHOULDER_P.stl"/>
            </geometry>
        </visual>
    </link>
    <joint name="CARM/SHAPE_ELBOW_P_vjoint_" type="fixed">
        <origin rpy="0 0 0" xyz="0.0 0.0 0.0"/>
        <parent link="CARM/ELBOW_P_link"/>
        <child link="CARM/SHAPE_ELBOW_P"/>
    </joint>
    <link name="CARM/SHAPE_ELBOW_P">
        <visual>
            <geometry>
                <box size="0 0 0"/>
            </geometry>
            <material name="d5d2bb">
                <color rgba="0.835294117647 0.823529411765 0.733333333333 1.0"/>
            </material>
        </visual>
        <collision>
            <geometry>
                <mesh filename="package://tmc_manipulation_tests/meshes/hsra/ELBOW_P.stl"/>
            </geometry>
        </collision>
    </link>
    <joint name="CARM/SHAPE_ELBOW_P_VISUAL_vjoint_" type="fixed">
        <origin rpy="0 0 0" xyz="0 0.0 0"/>
        <parent link="CARM/ELBOW_P_link"/>
        <child link="CARM/SHAPE_ELBOW_P_VISUAL"/>
    </joint>
    <link name="CARM/SHAPE_ELBOW_P_VISUAL">
        <visual>
            <material name="d5d2bb">
                <color rgba="0.835294117647 0.823529411765 0.733333333333 1.0"/>
            </material>
            <geometry>
                <mesh filename="package://tmc_manipulation_tests/meshes/hsra/ELBOW_P.stl"/>
            </geometry>
        </visual>
    </link>
    <joint name="CARM/SHAPE_WRIST_Y_1_vjoint_" type="fixed">
        <origin rpy="0 0 0" xyz="0.0  0.0 0.0"/>
        <parent link="CARM/WRIST_Y_link"/>
        <child link="CARM/SHAPE_WRIST_Y_1"/>
    </joint>
    <link name="CARM/SHAPE_WRIST_Y_1">
        <visual>
            <geometry>
                <box size="0 0 0"/>
            </geometry>
            <material name="ff4444">
                <color rgba="1.0 0.266666666667 0.266666666667 1.0"/>
            </material>
        </visual>
        <collision>
            <geometry>
                <mesh filename="package://tmc_manipulation_tests/meshes/hsra/WRIST_Y_1.stl"/>
            </geometry>
        </collision>
    </link>
    <joint name="CARM/SHAPE_WRIST_Y_2_vjoint_" type="fixed">
        <origin rpy="0 0 0" xyz="0.0  0.0 0.0"/>
        <parent link="CARM/WRIST_Y_link"/>
        <child link="CARM/SHAPE_WRIST_Y_2"/>
    </joint>
    <link name="CARM/SHAPE_WRIST_Y_2">
        <visual>
            <geometry>
                <box size="0 0 0"/>
            </geometry>
            <material name="ff4444">
                <color rgba="1.0 0.266666666667 0.266666666667 1.0"/>
            </material>
        </visual>
        <collision>
            <geometry>
                <mesh filename="package://tmc_manipulation_tests/meshes/hsra/WRIST_Y_2.stl"/>
            </geometry>
        </collision>
    </link>
    <joint name="CARM/SHAPE_WRIST_Y_3_vjoint_" type="fixed">
        <origin rpy="0 0 0" xyz="0.0  0.0 0.0"/>
        <parent link="CARM/WRIST_Y_link"/>
        <child link="CARM/SHAPE_WRIST_Y_3"/>
    </joint>
    <link name="CARM/SHAPE_WRIST_Y_3">
        <visual>
            <geometry>
                <box size="0 0 0"/>
            </geometry>
            <material name="ff4444">
                <color rgba="1.0 0.266666666667 0.266666666667 1.0"/>
            </material>
        </visual>
        <collision>
            <geometry>
                <mesh filename="package://tmc_manipulation_tests/meshes/hsra/WRIST_Y_3.stl"/>
            </geometry>
        </collision>
    </link>
    <joint name="CARM/SHAPE_WRIST_Y_4_vjoint_" type="fixed">
        <origin rpy="0 0 0" xyz="0.0  0.0 0.0"/>
        <parent link="CARM/WRIST_Y_link"/>
        <child link="CARM/SHAPE_WRIST_Y_4"/>
    </joint>
    <link name="CARM/SHAPE_WRIST_Y_4">
        <visual>
            <geometry>
                <box size="0 0 0"/>
            </geometry>
            <material name="ff4444">
                <color rgba="1.0 0.266666666667 0.266666666667 1.0"/>
            </material>
        </visual>
        <collision>
            <geometry>
                <mesh filename="package://tmc_manipulation_tests/meshes/hsra/WRIST_Y_4.stl"/>
            </geometry>
        </collision>
    </link>
    <joint name="CARM/SHAPE_WRIST_Y_VISUAL_vjoint_" type="fixed">
        <origin rpy="0 0 0" xyz="0 0 0"/>
        <parent link="CARM/WRIST_Y_link"/>
        <child link="CARM/SHAPE_WRIST_Y_VISUAL"/>
    </joint>
    <link name="CARM/SHAPE_WRIST_Y_VISUAL">
        <visual>
            <material name="d5d2bb">
                <color rgba="0.835294117647 0.823529411765 0.733333333333 1.0"/>
            </material>
            <geometry>
                <mesh filename="package://tmc_manipulation_tests/meshes/hsra/WRIST_Y_1.stl"/>
            </geometry>
        </visual>
        <visual>
            <material name="d5d2bb">
                <color rgba="0.835294117647 0.823529411765 0.733333333333 1.0"/>
            </material>
            <geometry>
                <mesh filename="package://tmc_manipulation_tests/meshes/hsra/WRIST_Y_2.stl"/>
            </geometry>
        </visual>
        <visual>
            <material name="d5d2bb">
                <color rgba="0.835294117647 0.823529411765 0.733333333333 1.0"/>
            </material>
            <geometry>
                <mesh filename="package://tmc_manipulation_tests/meshes/hsra/WRIST_Y_3.stl"/>
            </geometry>
        </visual>
        <visual>
            <material name="d5d2bb">
                <color rgba="0.835294117647 0.823529411765 0.733333333333 1.0"/>
            </material>
            <geometry>
                <mesh filename="package://tmc_manipulation_tests/meshes/hsra/WRIST_Y_4.stl"/>
            </geometry>
        </visual>
    </link>
    <joint name="CARM/SHAPE_WRIST_R_vjoint_" type="fixed">
        <origin rpy="0 0 0" xyz="0.0 0.0 0.0"/>
        <parent link="CARM/WRIST_R_link"/>
        <child link="CARM/SHAPE_WRIST_R"/>
    </joint>
    <link name="CARM/SHAPE_WRIST_R">
        <visual>
            <geometry>
                <box size="0 0 0"/>
            </geometry>
            <material name="00ffff">
                <color rgba="0.0 1.0 1.0 1.0"/>
            </material>
        </visual>
        <collision>
            <geometry>
                <mesh filename="package://tmc_manipulation_tests/meshes/hsra/WRIST_R.stl"/>
            </geometry>
        </collision>
    </link>
    <joint name="CARM/SHAPE_WRIST_R_VISUAL_vjoint_" type="fixed">
        <origin rpy="0 0 0" xyz="0 0 0"/>
        <parent link="CARM/WRIST_R_link"/>
        <child link="CARM/SHAPE_WRIST_R_VISUAL"/>
    </joint>
    <link name="CARM/SHAPE_WRIST_R_VISUAL">
        <visual>
            <material name="d5d2bb">
                <color rgba="0.835294117647 0.823529411765 0.733333333333 1.0"/>
            </material>
            <geometry>
                <mesh filename="package://tmc_manipulation_tests/meshes/hsra/WRIST_R.stl"/>
            </geometry>
        </visual>
    </link>
    <joint name="CARM/SHAPE_WRIST_P_1_vjoint_" type="fixed">
        <origin rpy="0 0 0" xyz=" 0.0  0.0 0.0"/>
        <parent link="CARM/WRIST_P_link"/>
        <child link="CARM/SHAPE_WRIST_P_1"/>
    </joint>
    <link name="CARM/SHAPE_WRIST_P_1">
        <visual>
            <geometry>
                <box size="0 0 0"/>
            </geometry>
            <material name="00ff00">
                <color rgba="0.0 1.0 0.0 1.0"/>
            </material>
        </visual>
        <collision>
            <geometry>
                <mesh filename="package://tmc_manipulation_tests/meshes/hsra/WRIST_P_1.stl"/>
            </geometry>
        </collision>
    </link>
    <joint name="CARM/SHAPE_WRIST_P_2_vjoint_" type="fixed">
        <origin rpy="0 0 0" xyz=" 0.001  0.0 0.0"/>
        <parent link="CARM/WRIST_P_link"/>
        <child link="CARM/SHAPE_WRIST_P_2"/>
    </joint>
    <link name="CARM/SHAPE_WRIST_P_2">
        <visual>
            <geometry>
                <box size="0 0 0"/>
            </geometry>
            <material name="00ff00">
                <color rgba="0.0 1.0 0.0 1.0"/>
            </material>
        </visual>
        <collision>
            <geometry>
                <mesh filename="package://tmc_manipulation_tests/meshes/hsra/WRIST_P_2.stl"/>
            </geometry>
        </collision>
    </link>
    <joint name="CARM/SHAPE_WRIST_P_VISUAL_vjoint_" type="fixed">
        <origin rpy="0 0 0" xyz="0 0 0"/>
        <parent link="CARM/WRIST_P_link"/>
        <child link="CARM/SHAPE_WRIST_P_VISUAL"/>
    </joint>
    <link name="CARM/SHAPE_WRIST_P_VISUAL">
        <visual>
            <material name="d5d2bb">
                <color rgba="0.835294117647 0.823529411765 0.733333333333 1.0"/>
            </material>
            <geometry>
                <mesh filename="package://tmc_manipulation_tests/meshes/hsra/WRIST_P_1.stl"/>
            </geometry>
        </visual>
        <visual>
            <material name="d5d2bb">
                <color rgba="0.835294117647 0.823529411765 0.733333333333 1.0"/>
            </material>
            <geometry>
                <mesh filename="package://tmc_manipulation_tests/meshes/hsra/WRIST_P_2.stl"/>
            </geometry>
        </visual>
    </link>
</robot>
